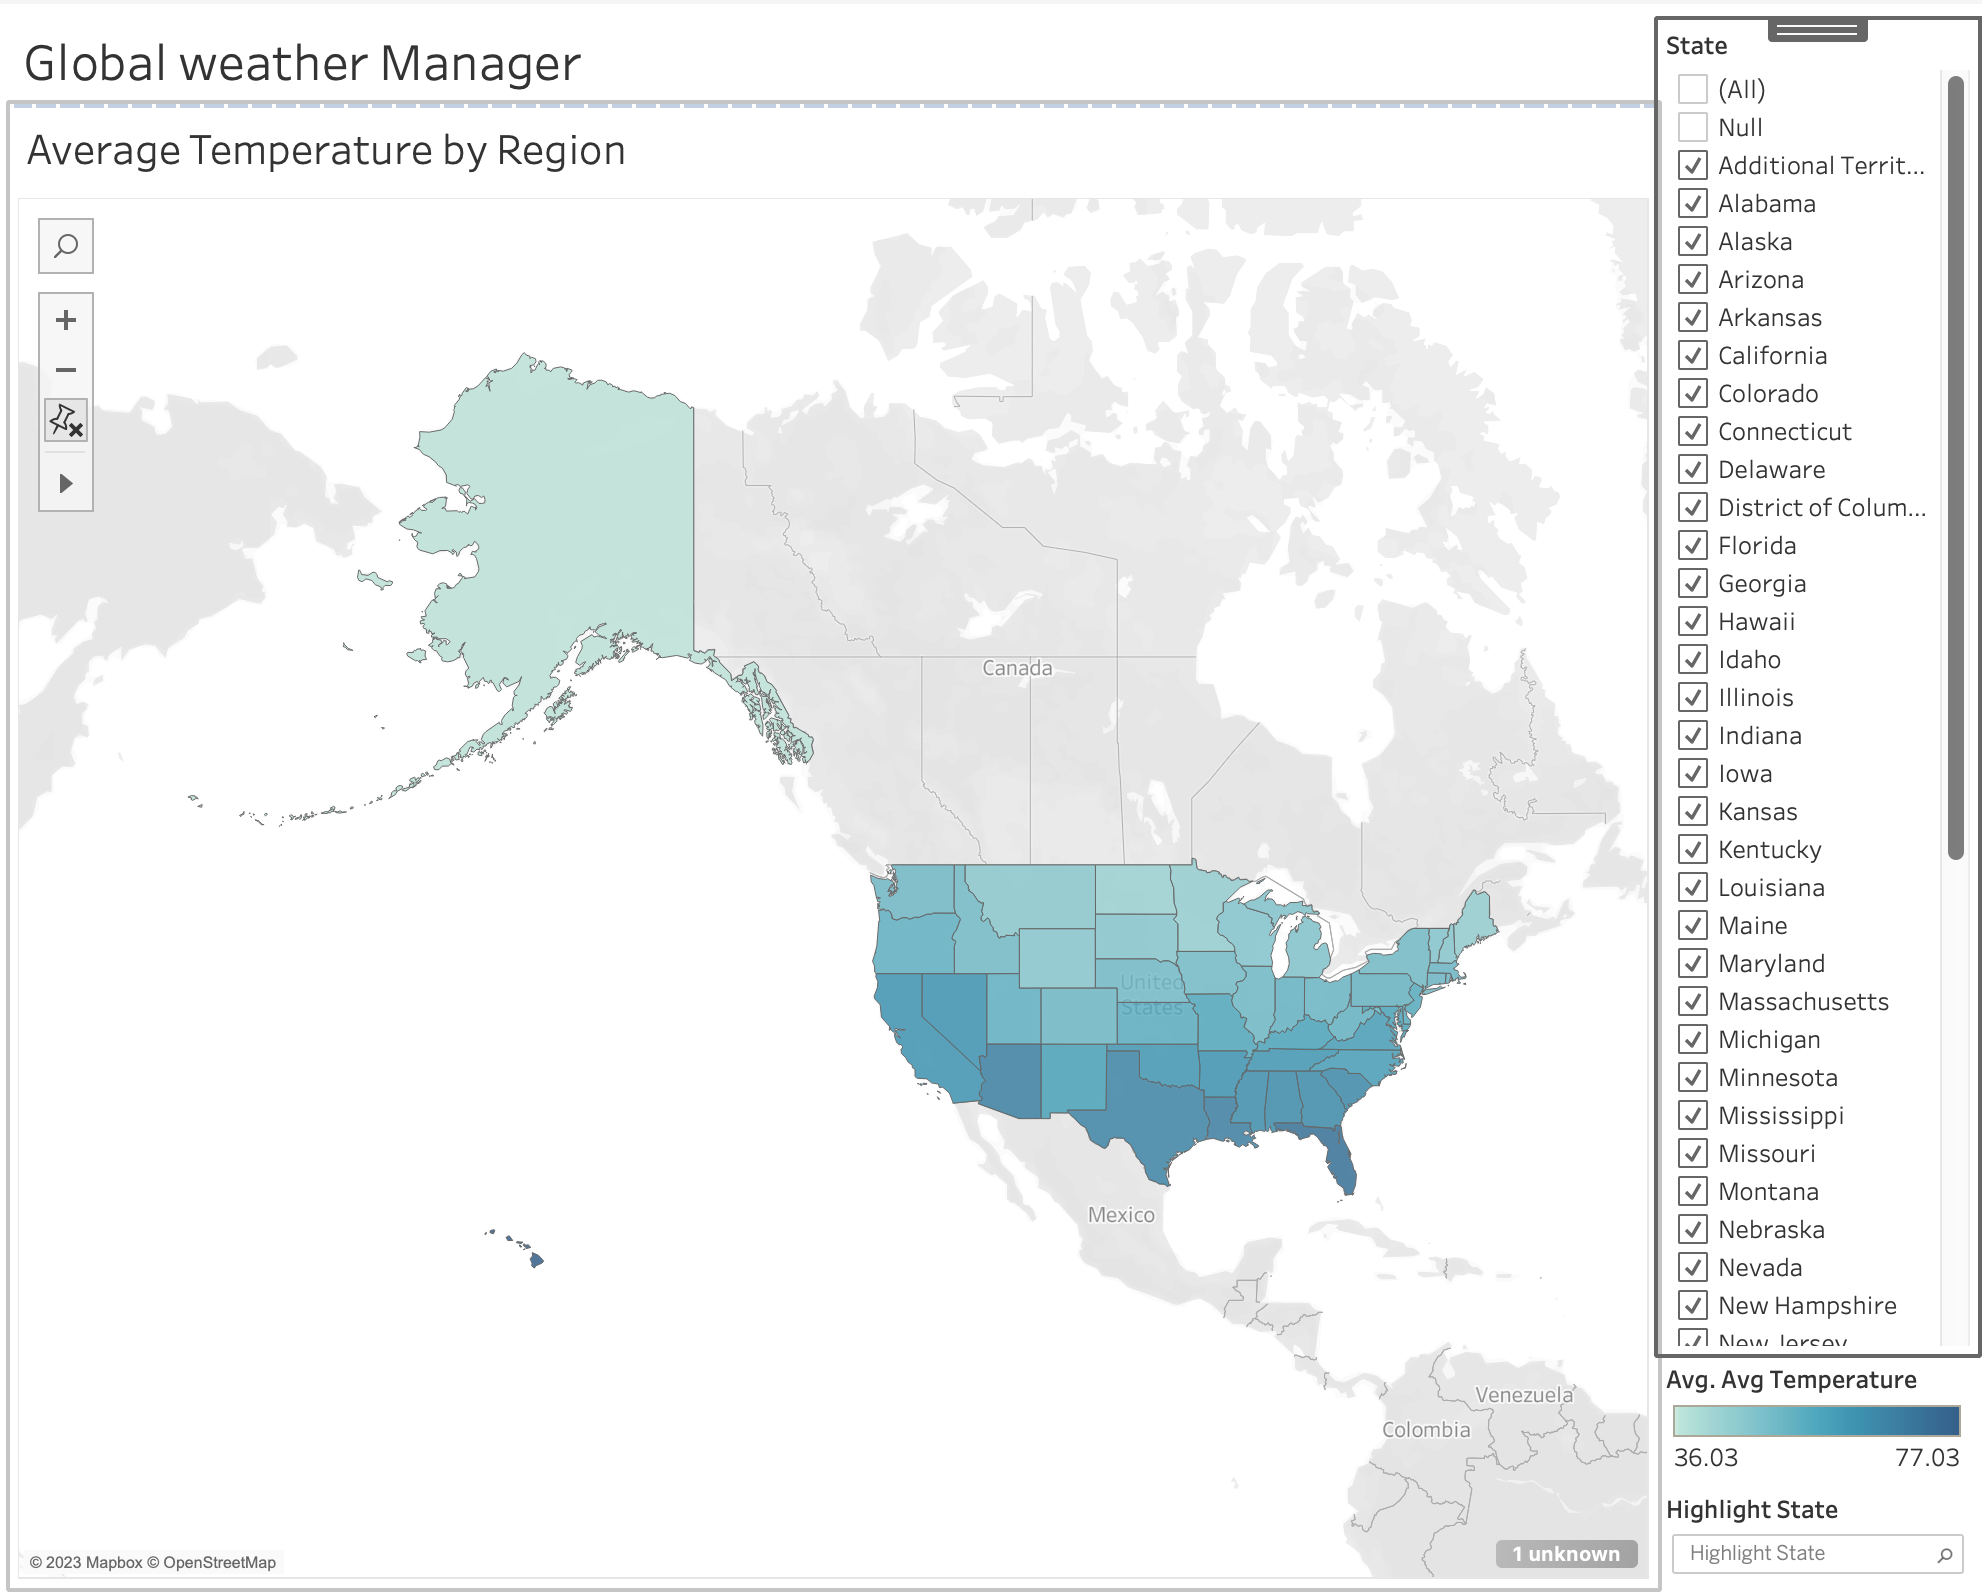

The dashboard page shown, as its layout file describes it:
{"tool":"tableau","page":{"name":"Dashboard 1","canvas":[1000,800],"ordinal":0},"visuals":[{"type":"title","box":[8,8,984,42]},{"type":"worksheet","title":"Sheet 2","mark":"Automatic","rows":["AvgTemperature"],"cols":["Month","Year"],"box":[8,50,820,371]},{"type":"filter","title":"Sheet 1","param":"[federated.1x9h1jt1fuyqab1cz5mqx16zkeyw].[none:Region:nk]","box":[828,50,164,184]},{"type":"worksheet","title":"Sheet 1","mark":"Automatic","rows":["AvgTemperature"],"cols":["Region"],"box":[8,421,820,371]}]}

Visuals, with their boxes in screenshot pixels (x1, y1, x2, y2), scaled from the page's 1000x800 canvas onto the 1982x1594 screenshot:
title: {"left": 16, "top": 16, "right": 1966, "bottom": 100}
"Sheet 2" worksheet: {"left": 16, "top": 100, "right": 1641, "bottom": 839}
"Sheet 1" filter: {"left": 1641, "top": 100, "right": 1966, "bottom": 466}
"Sheet 1" worksheet: {"left": 16, "top": 839, "right": 1641, "bottom": 1578}
